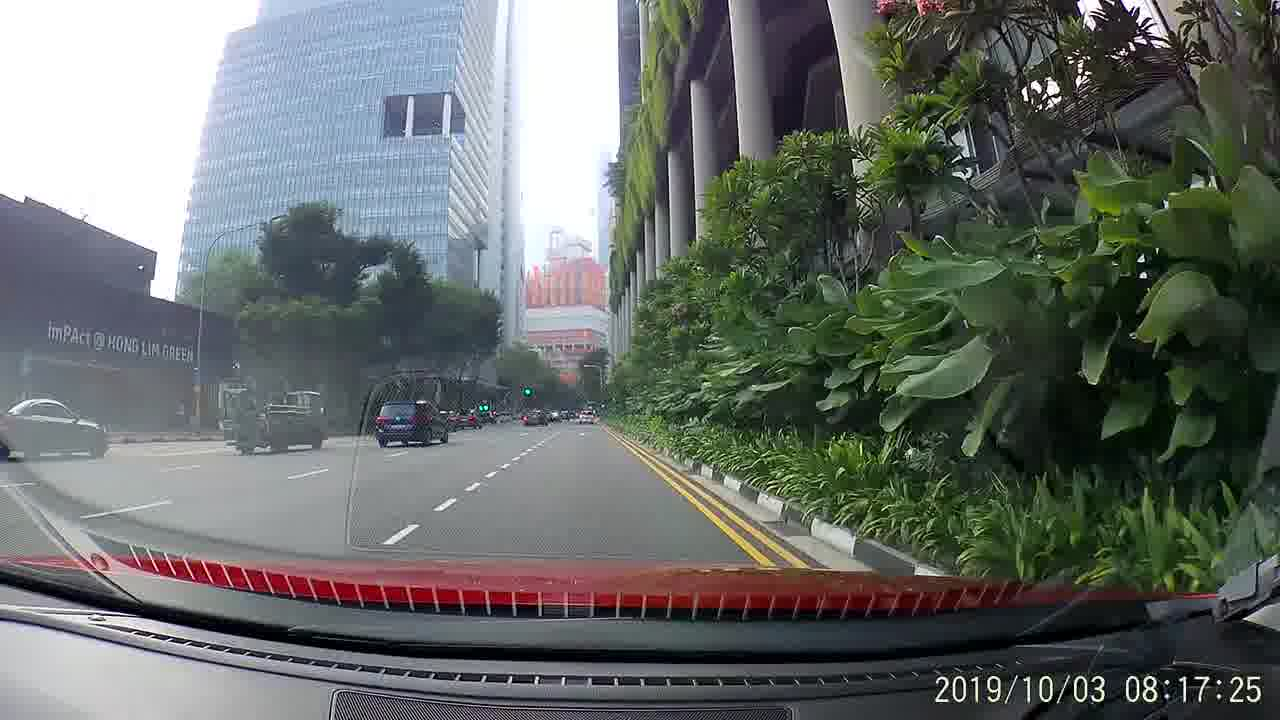car: (3, 395, 114, 461), (373, 399, 450, 448), (524, 406, 550, 431), (455, 406, 483, 429)
